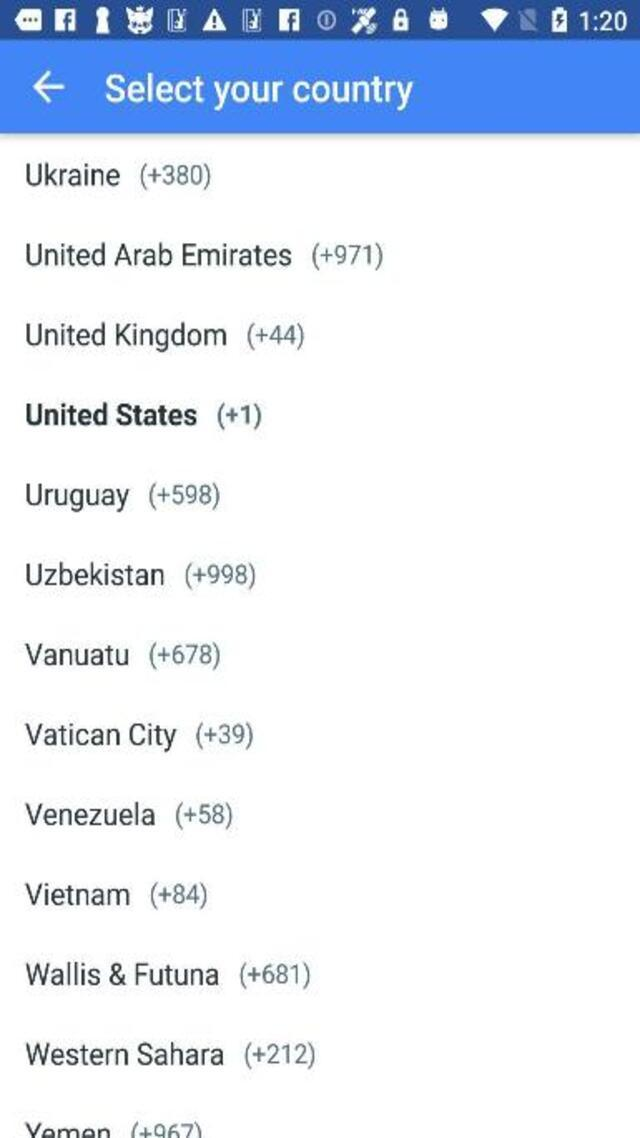Icon: (32, 70, 64, 104)
Text: (105, 71, 414, 110), (24, 242, 384, 272), (24, 321, 308, 353), (26, 1040, 318, 1069), (25, 961, 314, 990), (23, 561, 256, 592), (24, 401, 265, 430), (22, 719, 258, 748), (24, 481, 224, 514), (25, 643, 224, 673), (27, 163, 215, 192), (25, 803, 236, 828), (26, 883, 210, 911), (244, 1040, 314, 1068), (196, 722, 253, 750)
WS3: (24, 1122, 211, 1138)
